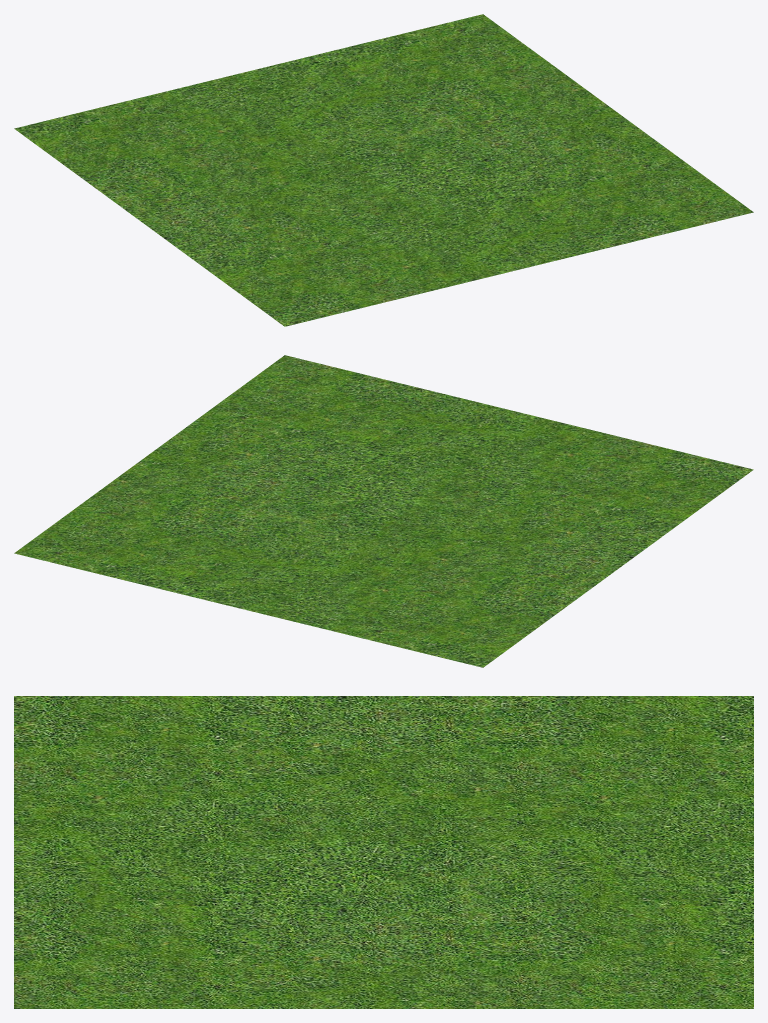
File: Pasto2.obj
3 views of the same model, one above another, from view 1: azimuth 30°, elevation 25°; view 2: azimuth 150°, elevation 25°; view 3: azimuth 270°, elevation 25° (orthographic). The views are drawn at different scales.
Visible parts, largest first — view 1: Sea:pPlane1; view 2: Sea:pPlane1; view 3: Sea:pPlane1.
Boxes of the visible parts, x1,y1,x2,y2 form: Sea:pPlane1: [14, 14, 753, 326]; Sea:pPlane1: [14, 355, 753, 667]; Sea:pPlane1: [14, 696, 753, 1008].
Size of the model in its own units: 30.37 by 0 by 30.37.
1 material, 1 textured.
